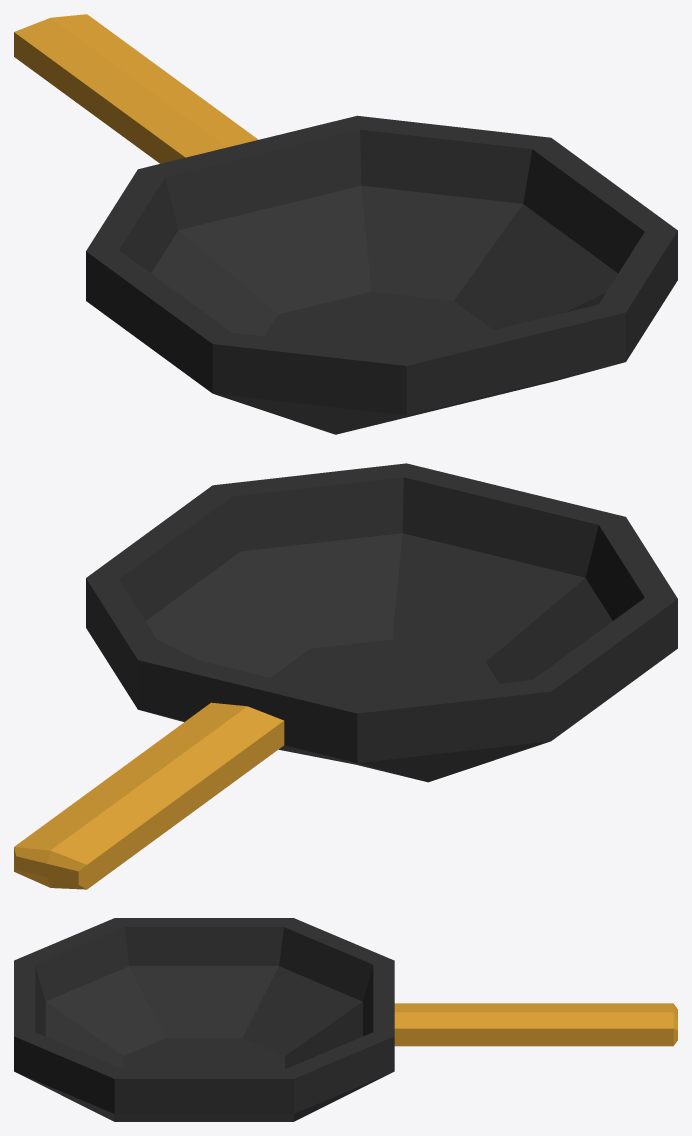
The model's file is frypan.glb.
3 renders of one model, top to bottom at view 1: azimuth 30°, elevation 25°; view 2: azimuth 150°, elevation 25°; view 3: azimuth 270°, elevation 25°, orthographic. The views are drawn at different scales.
Parts seen in each view (by area): view 1: Cube; view 2: Cube; view 3: Cube.
Part boxes in pixels (x1=…): Cube: x1=14, y1=14, x2=677, y2=434; Cube: x1=14, y1=463, x2=677, y2=889; Cube: x1=14, y1=918, x2=677, y2=1121.
Size of the model in its own units: 2 by 0.4961 by 3.49.
